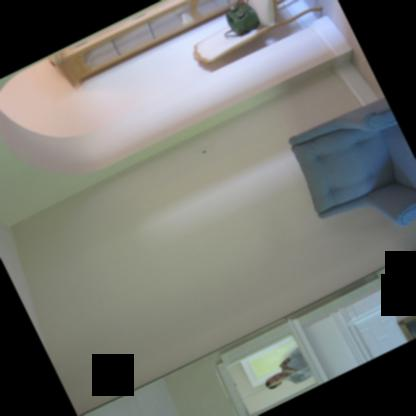handbag: (224, 0, 260, 37)
